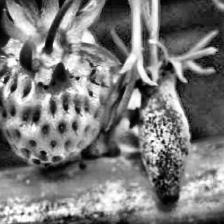Gray Mold: (138, 60, 192, 204)
